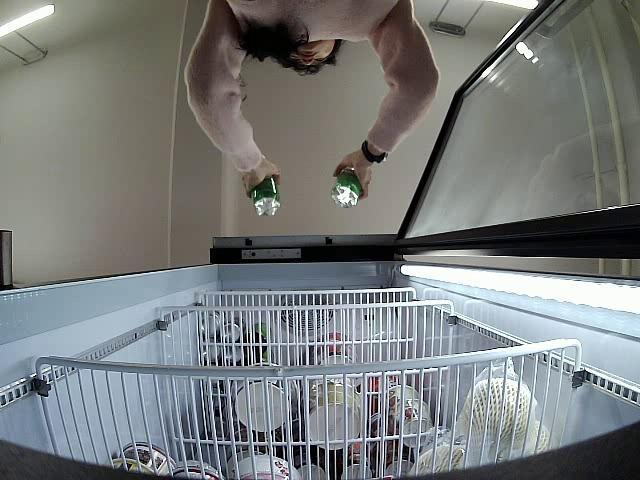18_trevi: (252, 173, 281, 218), (333, 169, 360, 208)
